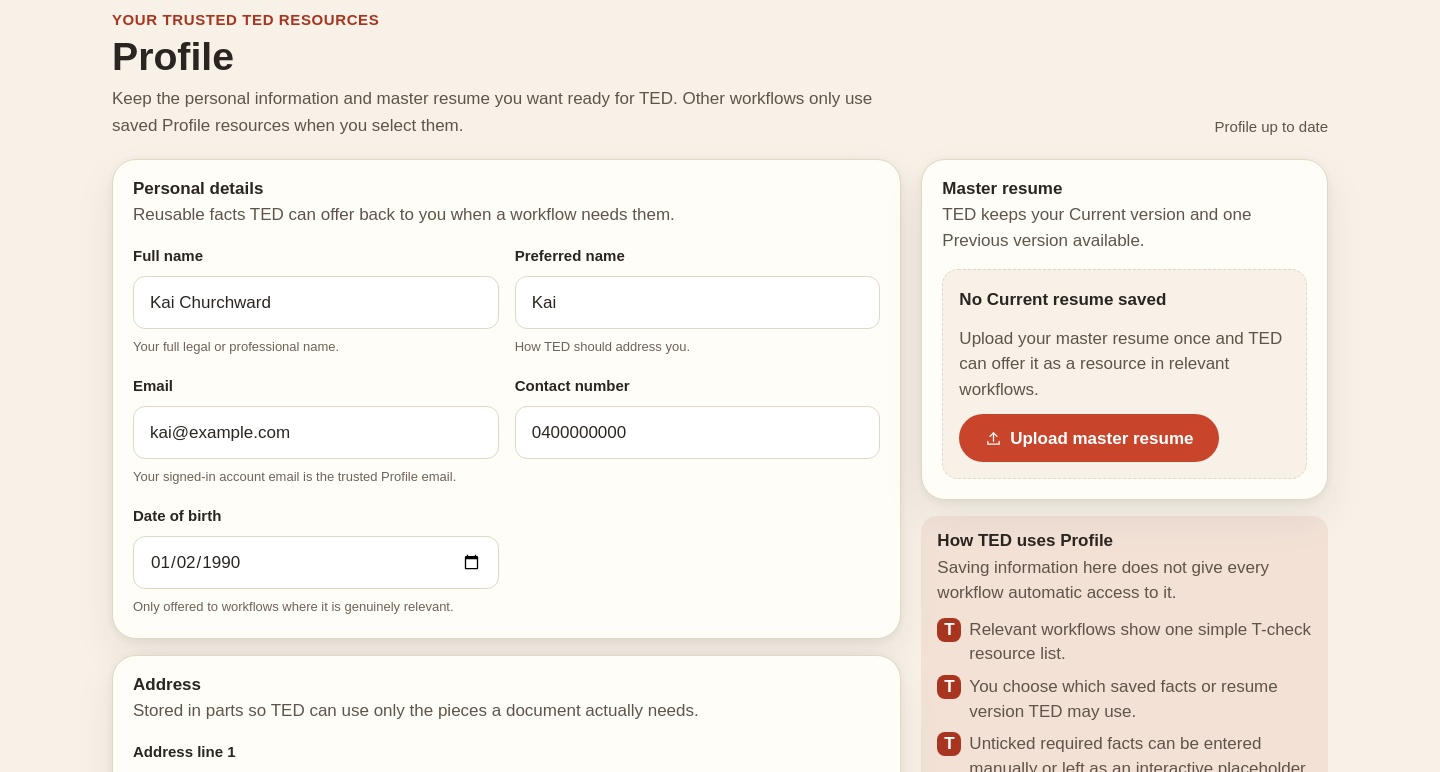
it: ProfilePage › saves edited details and clears the dirty state
Step 1. Replace the text in the field labelled "Contact number" with "0411111111" → (698, 432), box [515, 406, 880, 459]
(page scrolled)
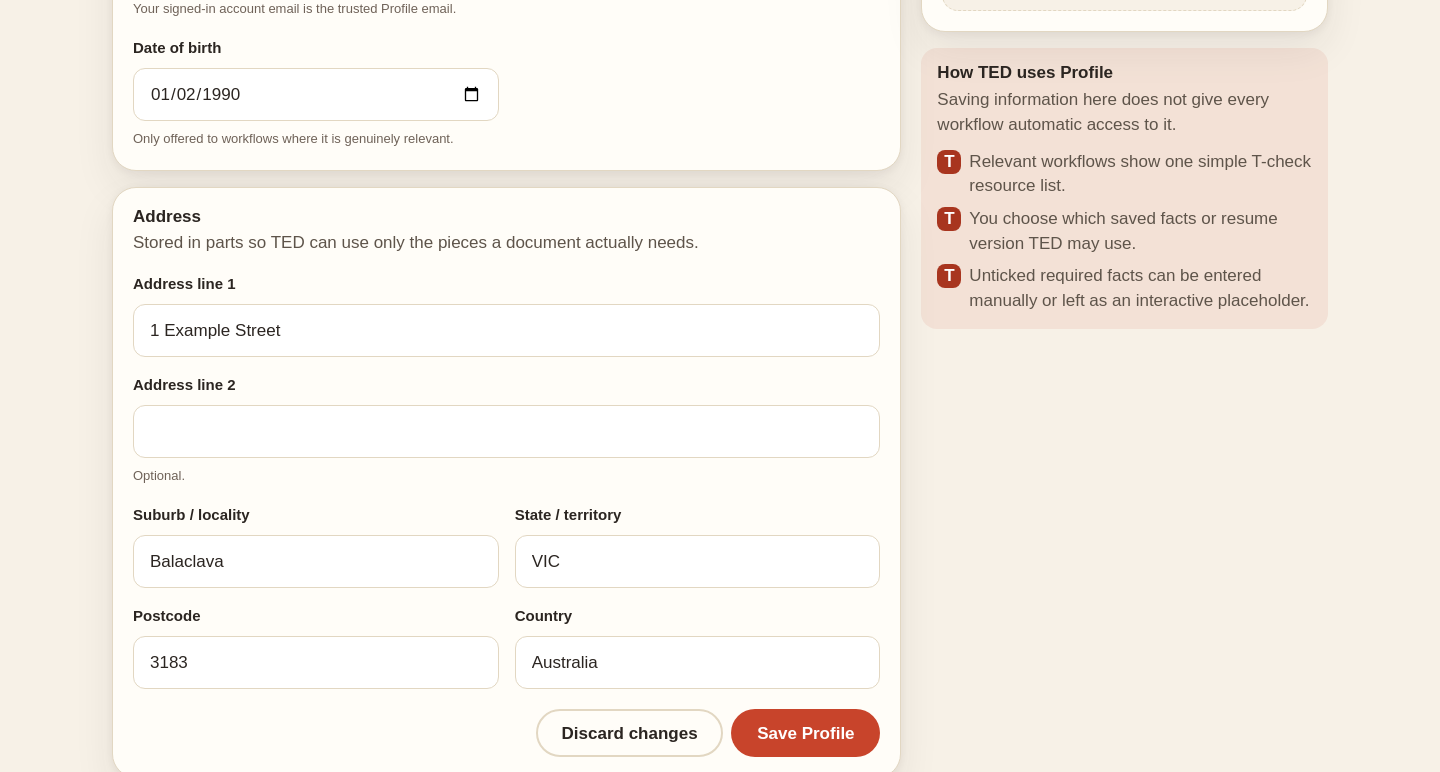
Step 2. Click the button "Save Profile" → (806, 733), box [731, 709, 880, 757]
(page scrolled)
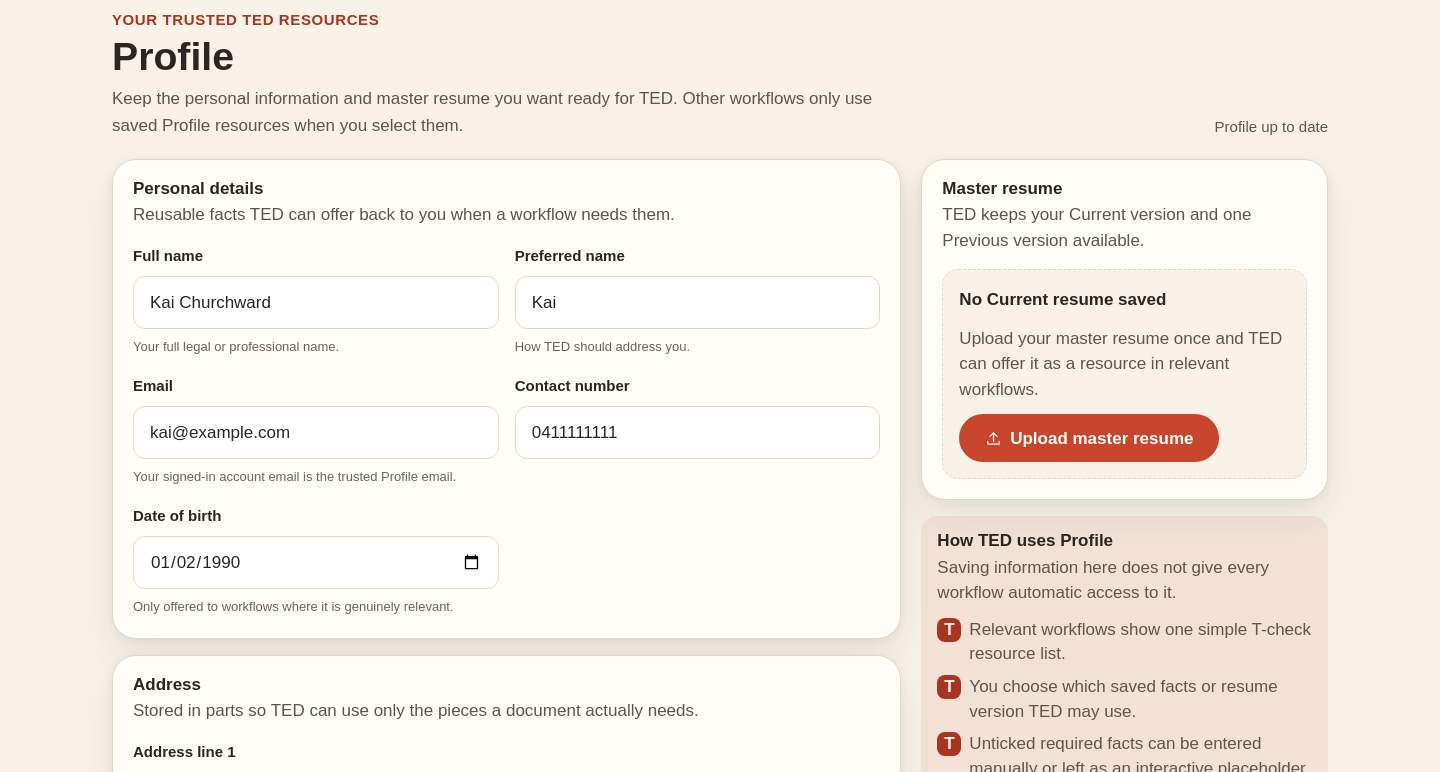
Expected: the text "Profile up to date" is shown, [1215, 115, 1328, 139]
